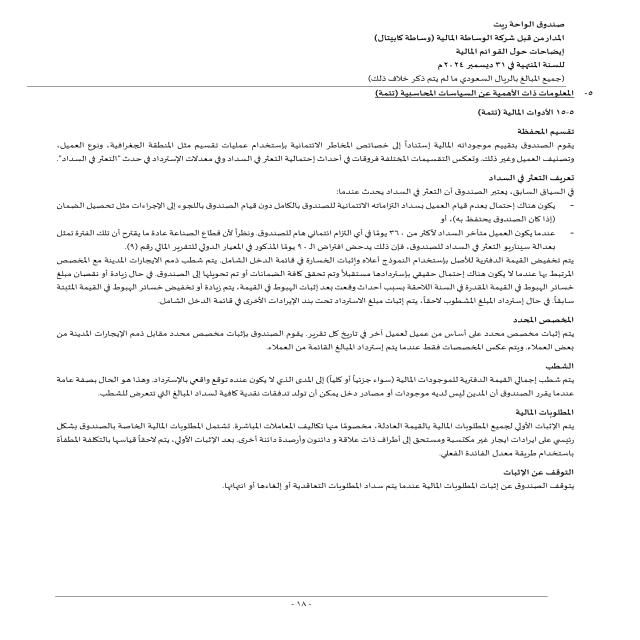notes: (448, 46, 570, 58)
text: (33, 116, 591, 510)
